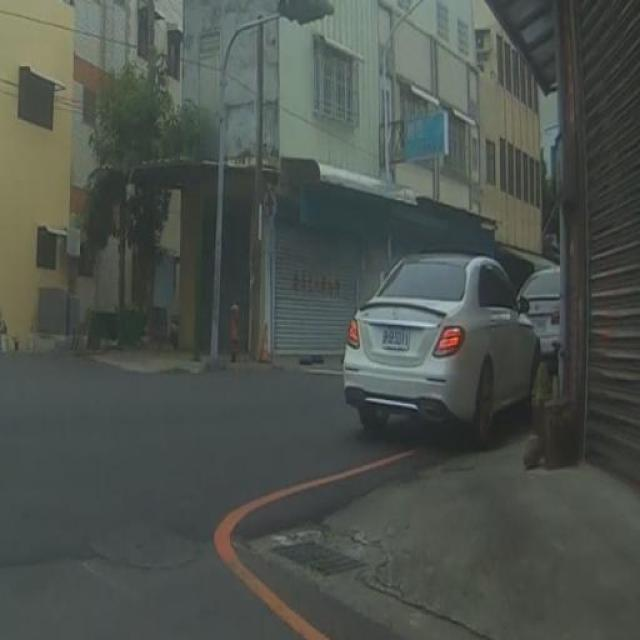illegalparking: (195, 216, 640, 561)
